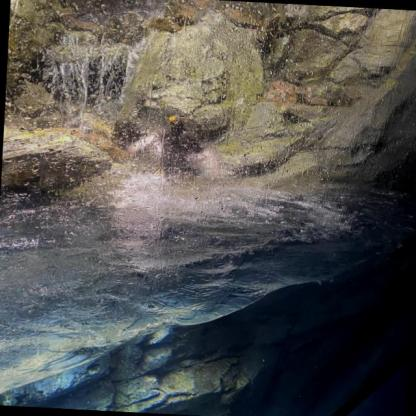puffin: (162, 112, 207, 168)
